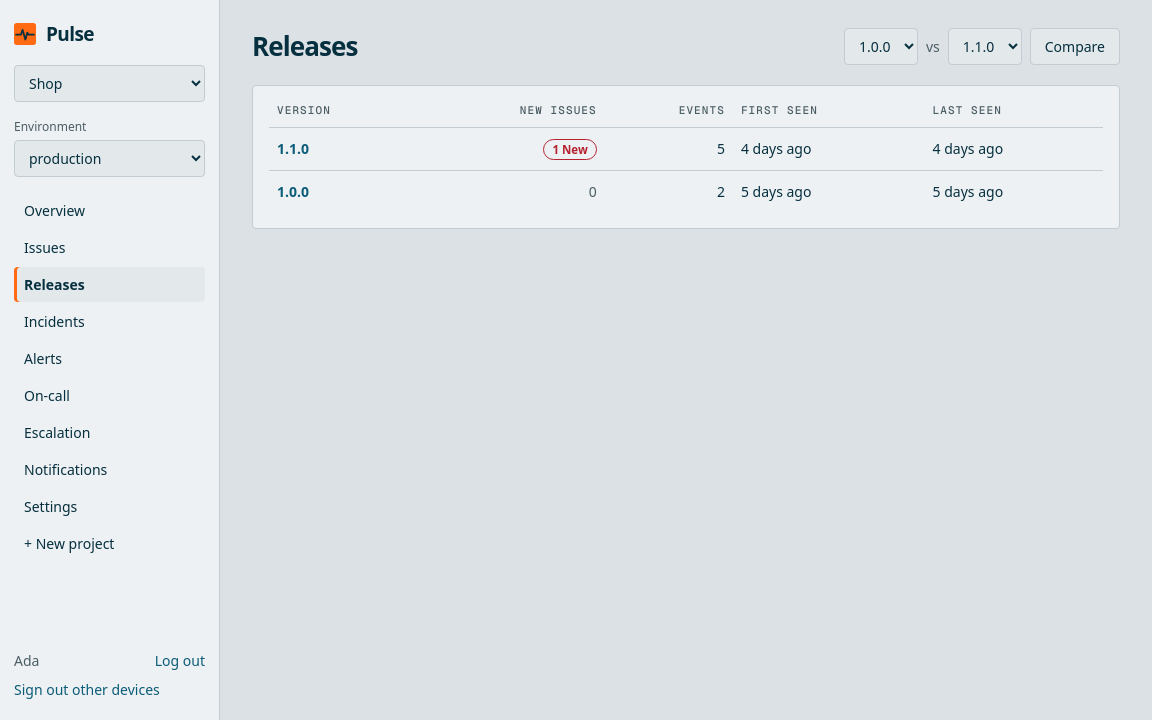
Test: releases › lists releases and compares the newest two
This screenshot has width=1152, height=720.
Expected: the row "1.1.0" shows "1 new", [269,127,1103,170]
Click the button "Compare". click: (1075, 46)
box: [1030,28,1120,65]
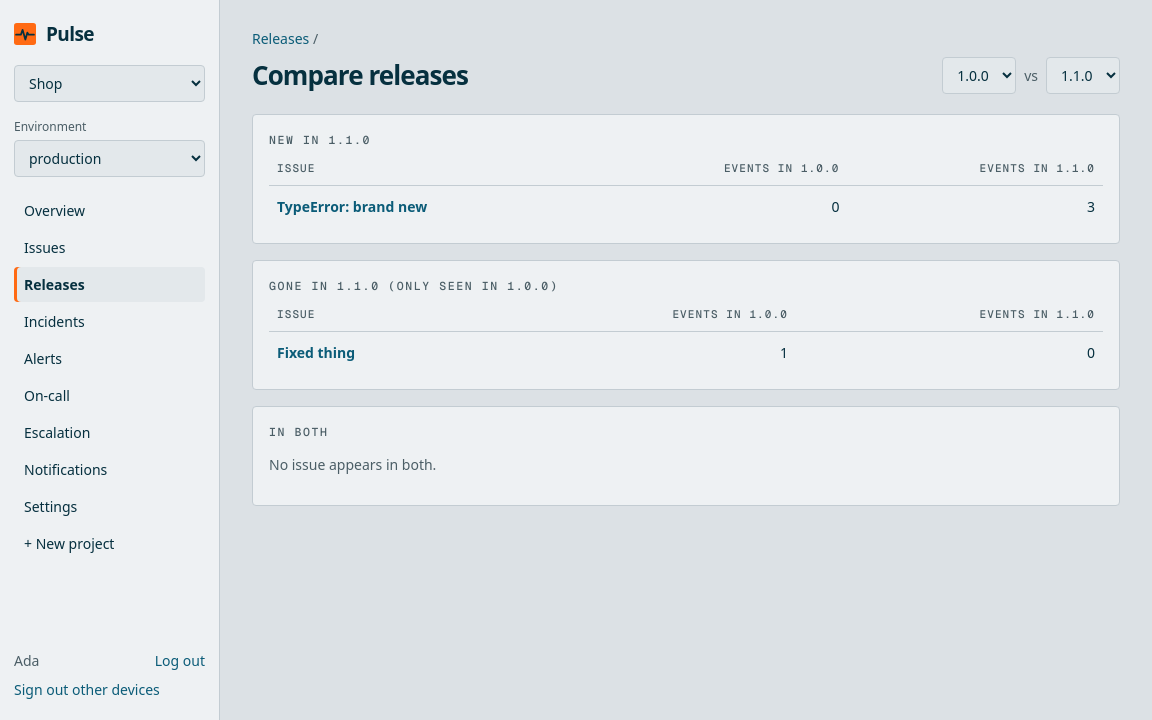
Now the link "TypeError: brand new" is shown, box [277,197,427,216]
Now the heading "Gone in 1.1.0 (only seen in 1.0.0)" is shown, box [269,278,558,293]
